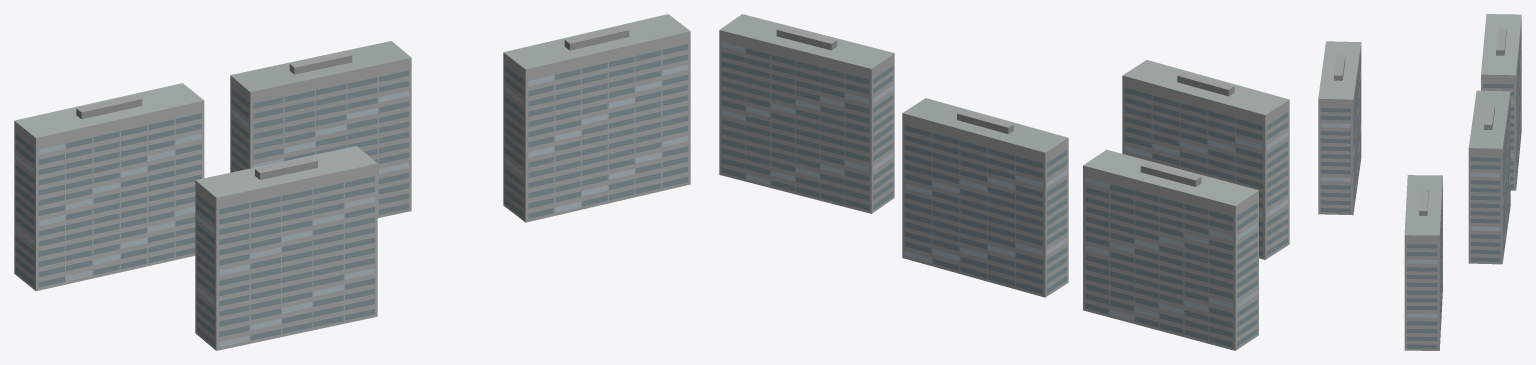
Rendered from apt-a13922909.glb.
3 views of the same model, side by side, from view 1: azimuth 30°, elevation 25°; view 2: azimuth 150°, elevation 25°; view 3: azimuth 270°, elevation 25° (orthographic). The views are drawn at different scales.
Visible parts, largest first — view 1: apt-a13922909; view 2: apt-a13922909; view 3: apt-a13922909.
Part boxes in pixels (x1=…): apt-a13922909: x1=14, y1=14, x2=690, y2=350; apt-a13922909: x1=719, y1=14, x2=1289, y2=350; apt-a13922909: x1=1318, y1=14, x2=1521, y2=350.
Size of the model in its own units: 188 by 47.81 by 73.05.
